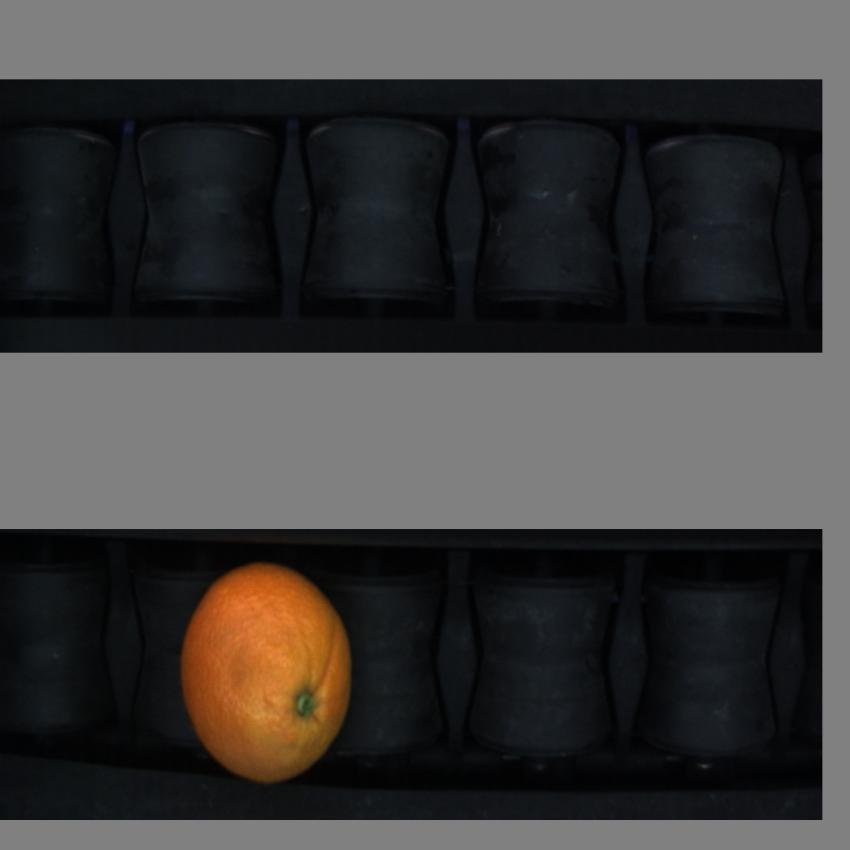Buen estado: (175, 566, 364, 774)
